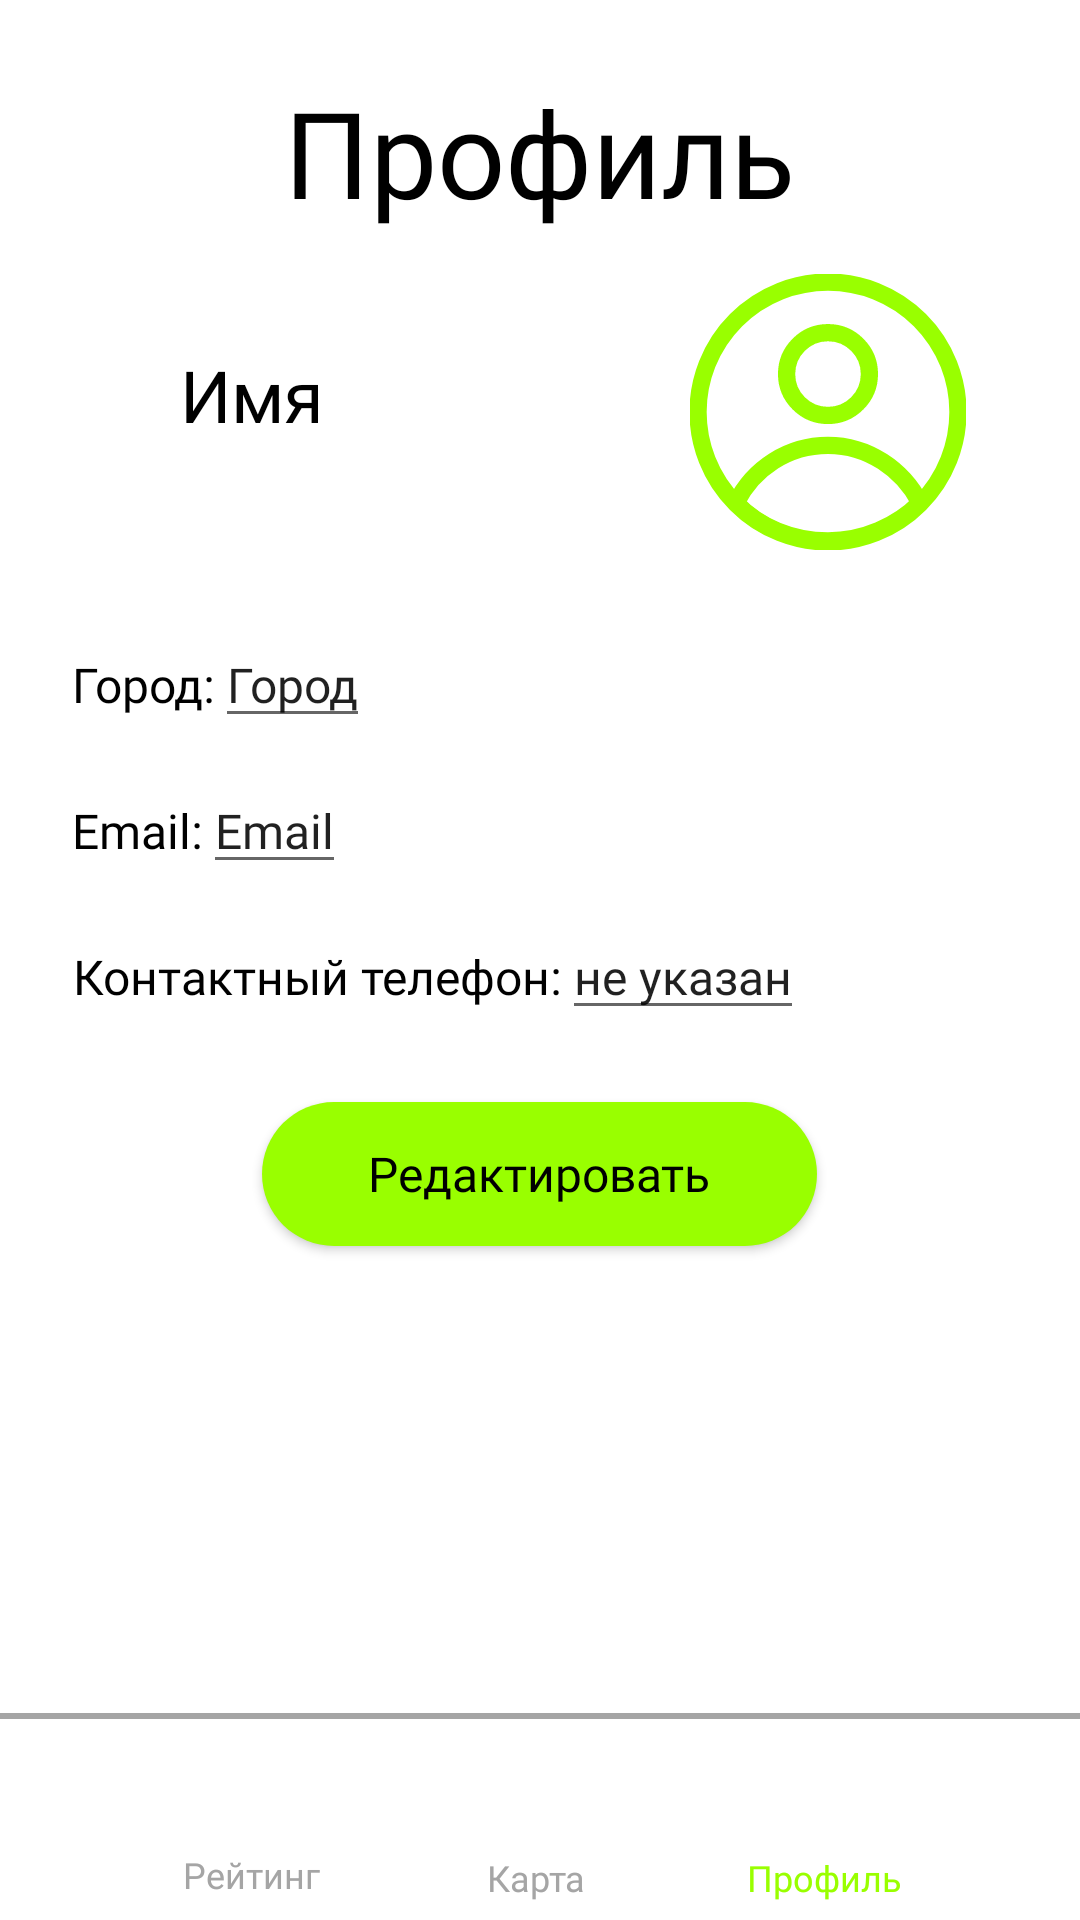

Locate icon controls on the screen. Image size 1080 x 1920, boxes as (x1, y1, x2, y2).
profile noimage: (690, 274, 966, 550)
